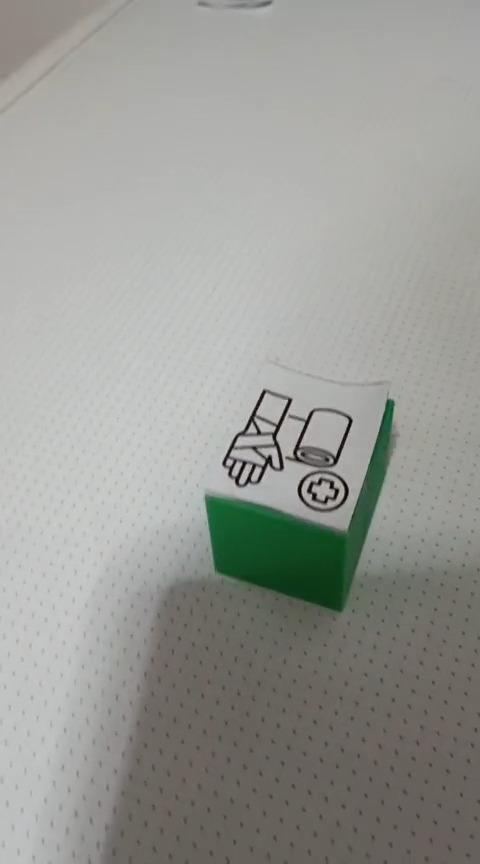Bandages: (202, 359, 395, 612)
